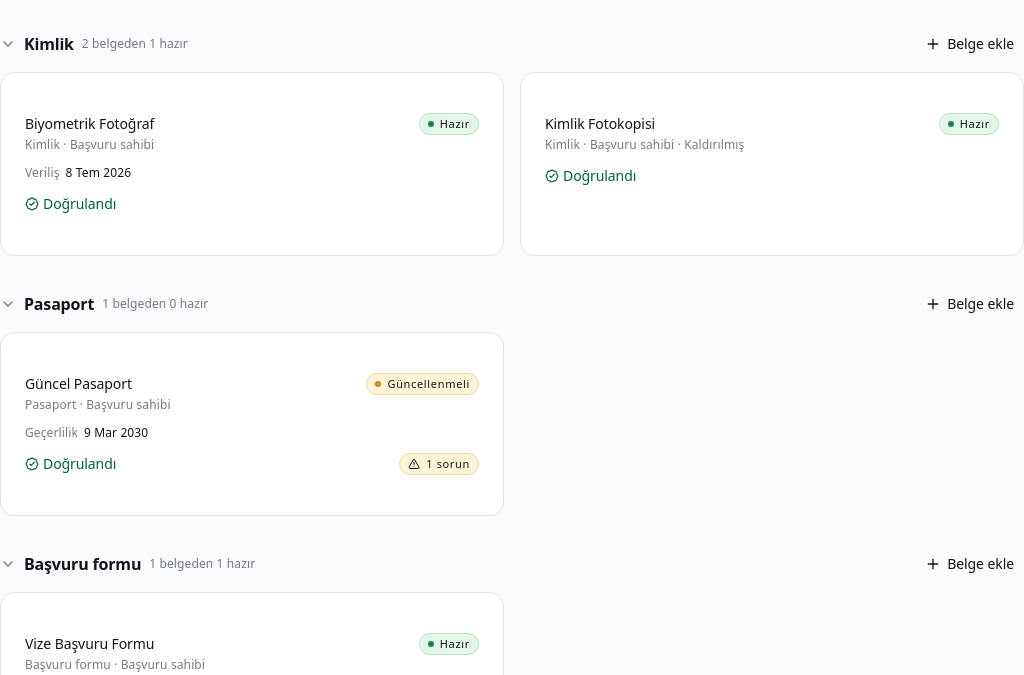
Documents workspace — a superseded claim › keeps the stored status intact in the editor
This screenshot has width=1024, height=675.
(page scrolled)
Click the button "Güncel Pasaport" at (78, 384), box top-left (25, 373), bottom-right (132, 395)
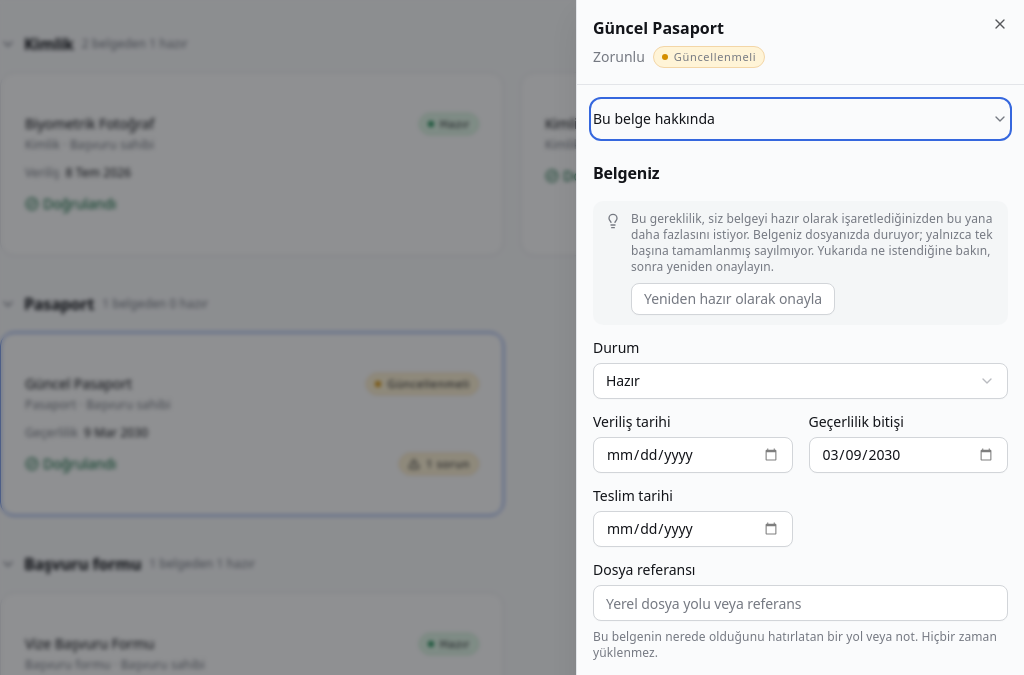
Expected: the button "Yeniden hazır olarak onayla" is shown, top-left (631, 283), bottom-right (835, 315)
Expected: the text "Güncellenmeli" is shown, top-left (653, 46), bottom-right (765, 68)
Expected: the dropdown named "Durum" reads "Hazır", top-left (593, 363), bottom-right (1008, 399)
